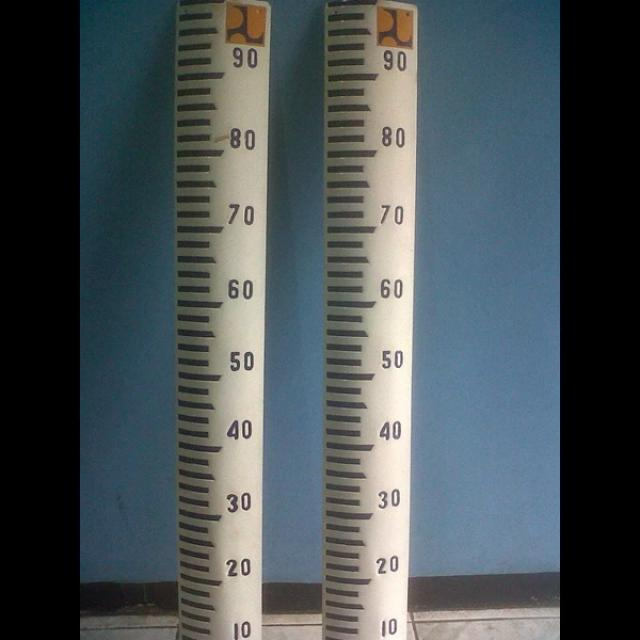10: (228, 618, 254, 640), (376, 616, 399, 638)
20: (224, 553, 254, 580), (374, 552, 399, 578)
30: (224, 487, 254, 517), (374, 488, 402, 512)
40: (225, 416, 254, 443), (377, 420, 405, 440)
50: (228, 347, 256, 375), (378, 349, 408, 372)
60: (224, 275, 256, 302), (378, 277, 407, 300)
70: (225, 199, 255, 227), (378, 202, 407, 227)
80: (228, 124, 258, 152), (381, 48, 410, 74), (381, 124, 408, 148)
90: (230, 43, 260, 72)
staff: (178, 0, 270, 640), (324, 0, 414, 640)
